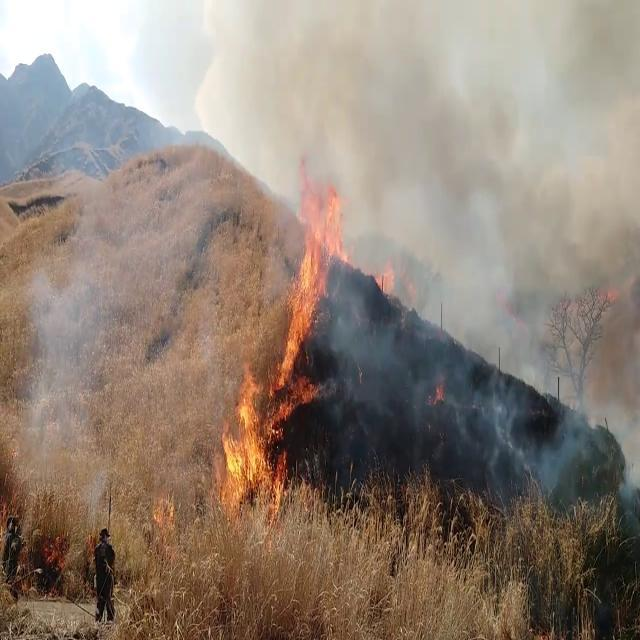Fire: (279, 160, 345, 402), (218, 363, 285, 512)
Smoke: (210, 0, 640, 417), (12, 218, 116, 508)
